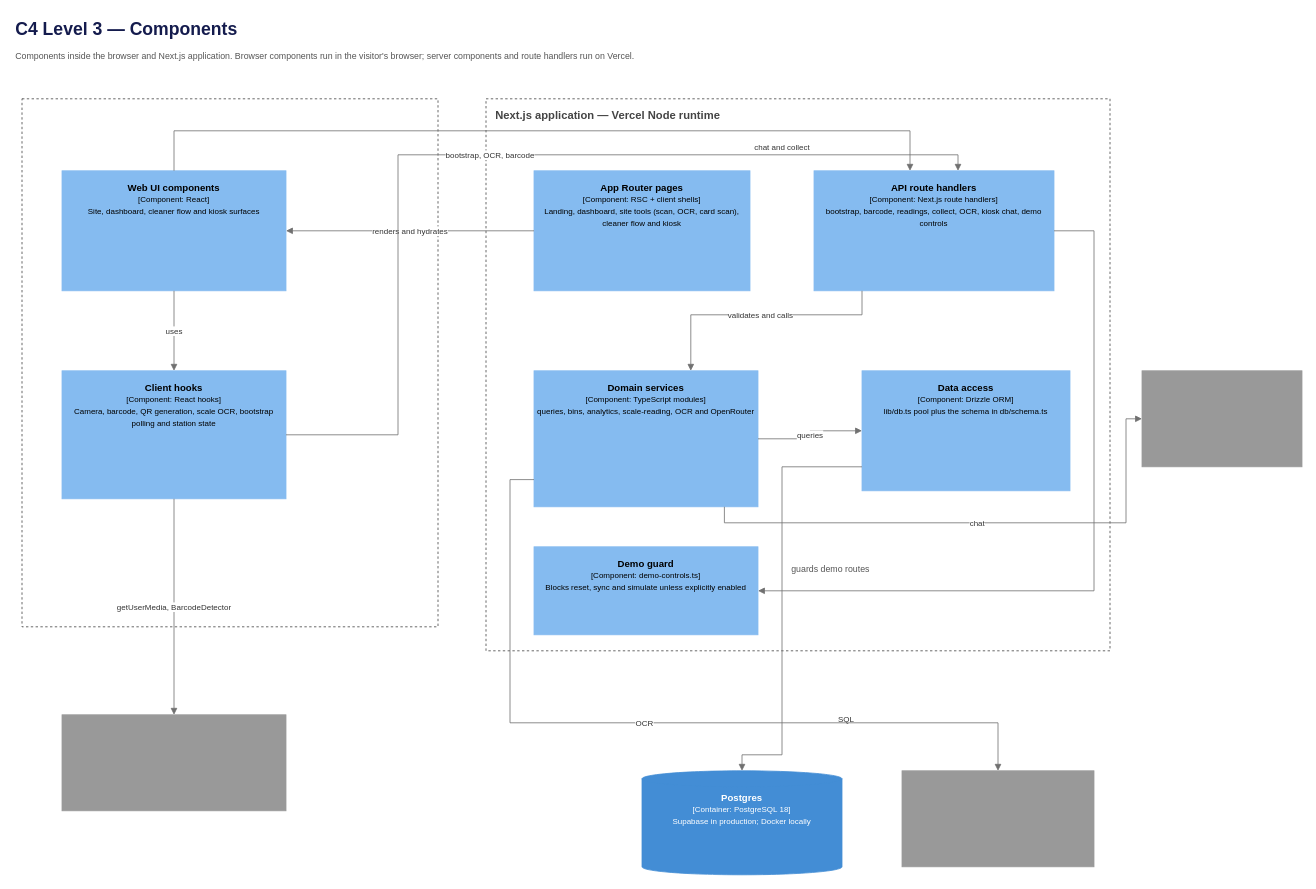
Some shapes in this 1316 by 889 pixel diagram are drawn without their labels. The shapes that lost their labels are listed below. From the top down, each one's box as (x1, y1, x2, y2) in pixels, then its label:
(21, 98, 438, 627): Browser runtime
(1141, 370, 1302, 467): OpenRouter [External System] Kiosk LLM fallback
(61, 714, 286, 811): Device sensors [External System] Camera and barcode detector
(901, 770, 1094, 867): Hugging Face OCR Space [External System] PaddleOCR
